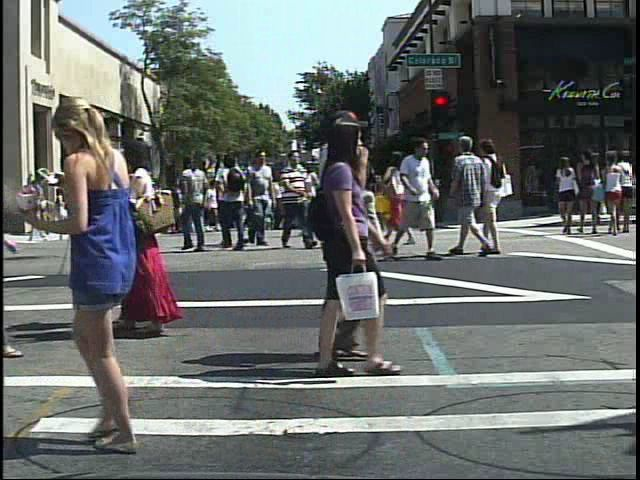person: (56, 84, 196, 463), (277, 117, 393, 380), (117, 134, 196, 343), (336, 106, 397, 367), (101, 133, 146, 334), (395, 137, 444, 264), (279, 145, 325, 253), (450, 130, 487, 258), (216, 151, 256, 259), (381, 144, 420, 249), (241, 148, 279, 255), (213, 150, 250, 253), (177, 151, 213, 255), (483, 136, 511, 258), (555, 152, 583, 236), (361, 137, 376, 249), (186, 170, 207, 239), (66, 182, 86, 232)
